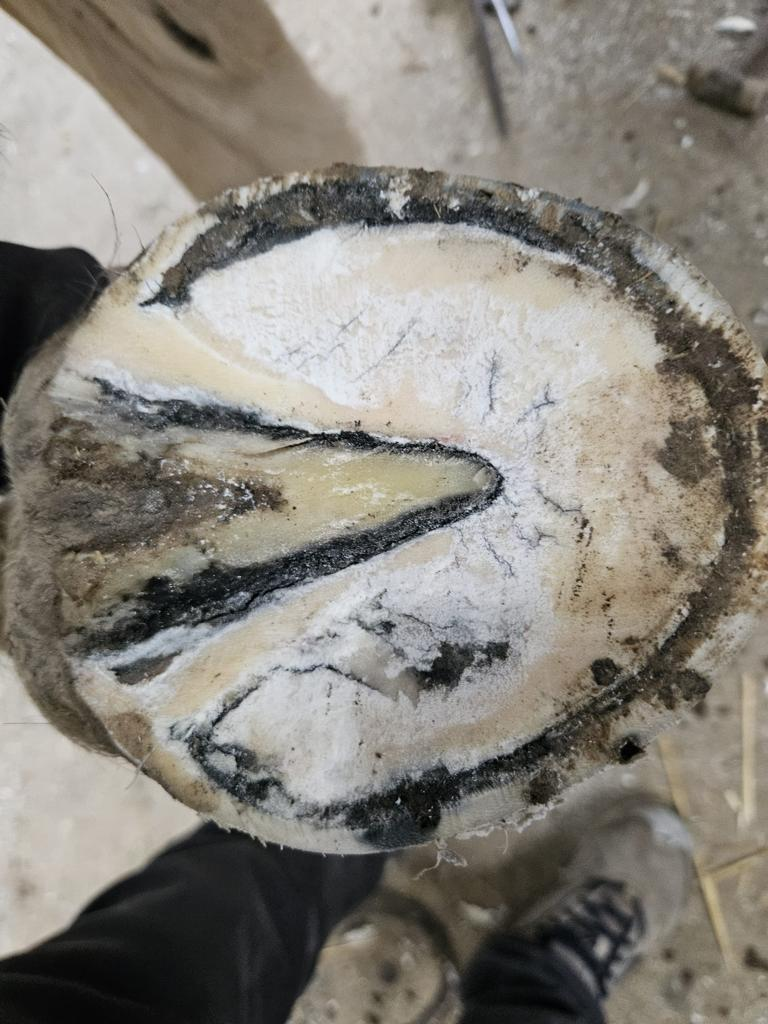horsesole: (46, 165, 768, 854)
